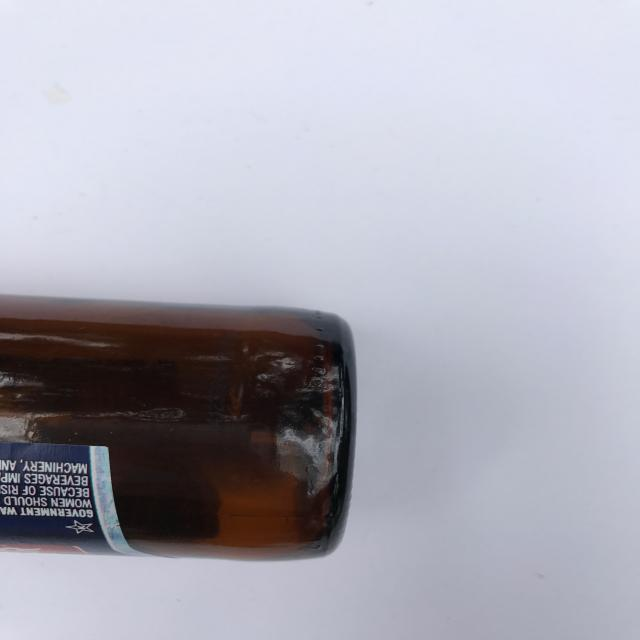Glass: (0, 280, 411, 583)
